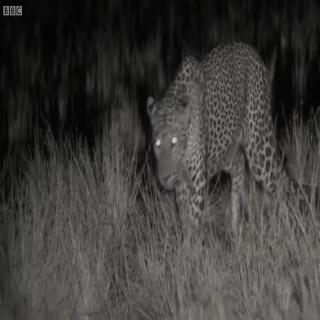Leopard: (138, 29, 293, 247)
